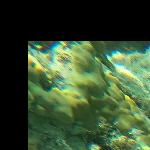dead: (31, 45, 148, 147)
